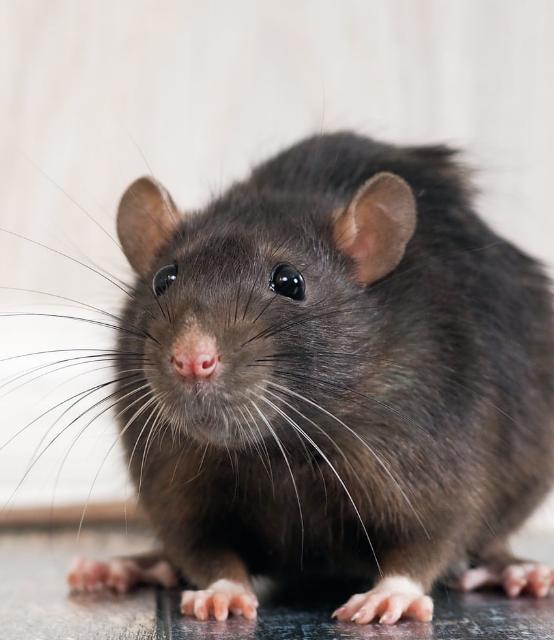rat: (44, 106, 552, 636)
